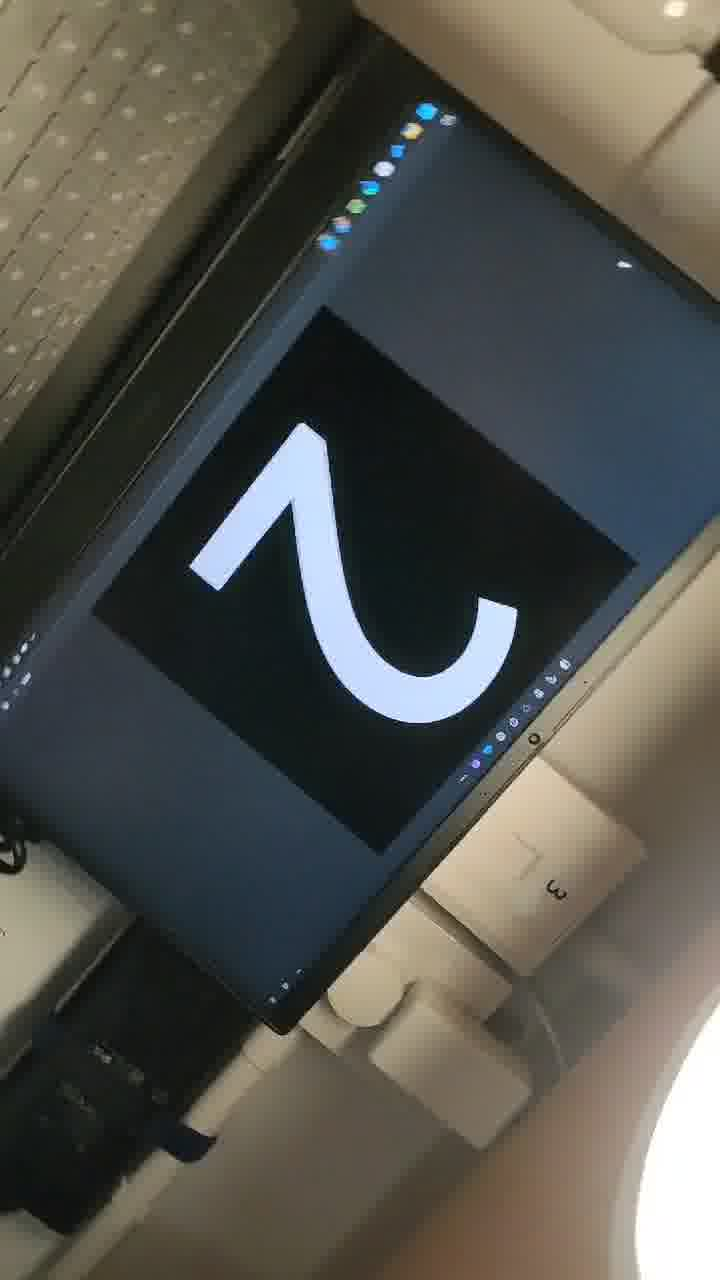two: (178, 381, 620, 829)
